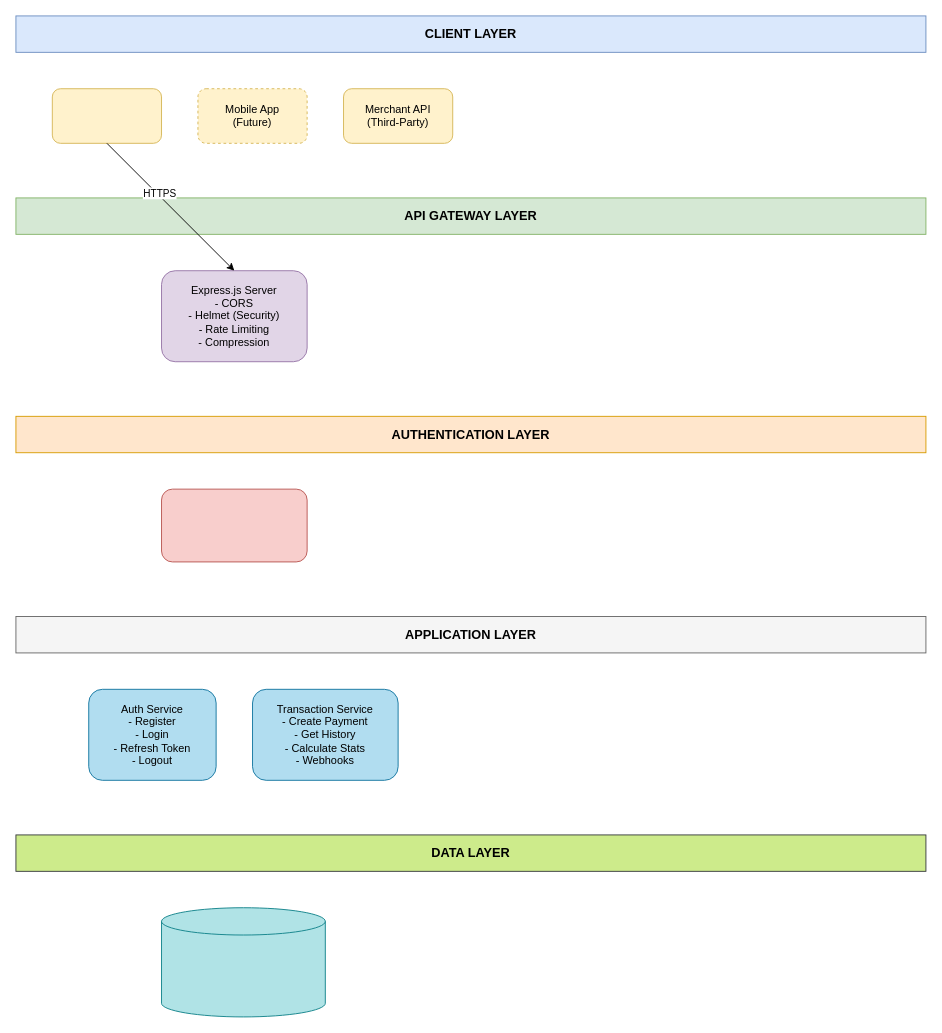
This 942x1033 diagram has some shape labels left out. The shapes that lost their labels are listed below. From the top down, each one's centre as x and y in pixels, then its label:
At point 106,115: "React + Vite (Browser)".
At point 234,525: "JWT Middleware - Verify Signature - Extract User Context - Auto Token Refresh".
At point 243,962: "PostgreSQL Database - users - transactions - payment_methods - audit_logs".
